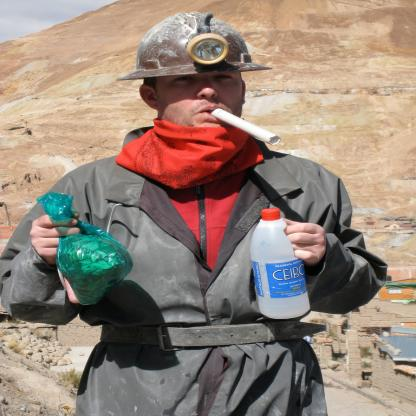Helmet: (118, 12, 280, 81)
